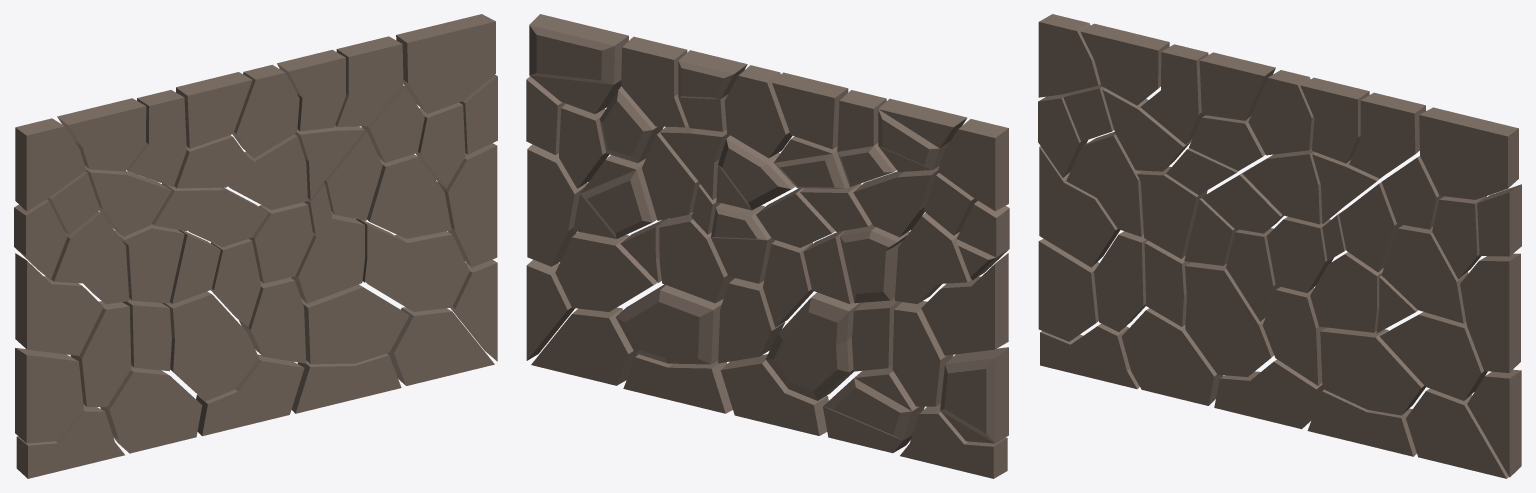
File: broken_wall.fbx
3 views of the same model, side by side, from view 1: azimuth 30°, elevation 25°; view 2: azimuth 150°, elevation 25°; view 3: azimuth 330°, elevation 25° (orthographic).
Parts seen in each view (by area): view 1: Wall_asset_Plane.001, Wall_asset_Plane.030, Wall_asset_Plane.018, Wall_asset_Plane.036, Wall_asset_Plane.040, Wall_asset_Plane.015, Wall_asset_Plane.039, Wall_asset_Plane.017, Wall_asset_Plane.007, Wall_asset_Plane.008, Wall_asset_Plane.031, Wall_asset_Plane.045 (+32 smaller); view 2: Wall_asset_Plane.001, Wall_asset_Plane.030, Wall_asset_Plane.018, Wall_asset_Plane.036, Wall_asset_Plane.040, Wall_asset_Plane.039, Wall_asset_Plane.015, Wall_asset_Plane.017, Wall_asset_Plane.007, Wall_asset_Plane.031, Wall_asset_Plane.008, Wall_asset_Plane.045 (+32 smaller); view 3: Wall_asset_Plane.001, Wall_asset_Plane.030, Wall_asset_Plane.018, Wall_asset_Plane.036, Wall_asset_Plane.007, Wall_asset_Plane.015, Wall_asset_Plane.040, Wall_asset_Plane.017, Wall_asset_Plane.008, Wall_asset_Plane.031, Wall_asset_Plane.039, Wall_asset_Plane.041 (+32 smaller).
Part boxes in pixels (left/top/right/bottom): Wall_asset_Plane.001: left=396, top=14, right=495, bottom=113; Wall_asset_Plane.030: left=162, top=291, right=259, bottom=401; Wall_asset_Plane.018: left=301, top=284, right=409, bottom=364; Wall_asset_Plane.036: left=100, top=365, right=202, bottom=453; Wall_asset_Plane.040: left=15, top=253, right=103, bottom=355; Wall_asset_Plane.015: left=365, top=231, right=469, bottom=311; Wall_asset_Plane.039: left=15, top=348, right=83, bottom=443; Wall_asset_Plane.017: left=387, top=307, right=494, bottom=385; Wall_asset_Plane.007: left=437, top=143, right=497, bottom=267; Wall_asset_Plane.008: left=366, top=154, right=451, bottom=238; Wall_asset_Plane.031: left=196, top=354, right=304, bottom=436; Wall_asset_Plane.045: left=15, top=118, right=86, bottom=211; Wall_asset_Plane.001: left=529, top=14, right=628, bottom=113; Wall_asset_Plane.030: left=765, top=292, right=862, bottom=400; Wall_asset_Plane.018: left=616, top=284, right=723, bottom=364; Wall_asset_Plane.036: left=823, top=366, right=924, bottom=453; Wall_asset_Plane.040: left=921, top=253, right=1008, bottom=355; Wall_asset_Plane.039: left=940, top=347, right=1008, bottom=443; Wall_asset_Plane.015: left=555, top=231, right=657, bottom=311; Wall_asset_Plane.017: left=531, top=307, right=638, bottom=385; Wall_asset_Plane.007: left=527, top=144, right=587, bottom=266; Wall_asset_Plane.031: left=720, top=354, right=828, bottom=435; Wall_asset_Plane.008: left=573, top=155, right=657, bottom=238; Wall_asset_Plane.045: left=938, top=119, right=1008, bottom=211; Wall_asset_Plane.001: left=1419, top=107, right=1518, bottom=199; Wall_asset_Plane.030: left=1185, top=262, right=1273, bottom=376; Wall_asset_Plane.018: left=1320, top=327, right=1425, bottom=415; Wall_asset_Plane.036: left=1121, top=308, right=1223, bottom=405; Wall_asset_Plane.007: left=1460, top=253, right=1520, bottom=372; Wall_asset_Plane.015: left=1380, top=312, right=1487, bottom=400; Wall_asset_Plane.040: left=1039, top=146, right=1120, bottom=267; Wall_asset_Plane.017: left=1406, top=388, right=1508, bottom=478; Wall_asset_Plane.008: left=1381, top=225, right=1468, bottom=323; Wall_asset_Plane.031: left=1214, top=359, right=1323, bottom=429; Wall_asset_Plane.039: left=1038, top=238, right=1099, bottom=341; Wall_asset_Plane.041: left=1066, top=132, right=1143, bottom=236.
Bounding box in the file's own units: 47.24 × 2.67 × 32.95.
